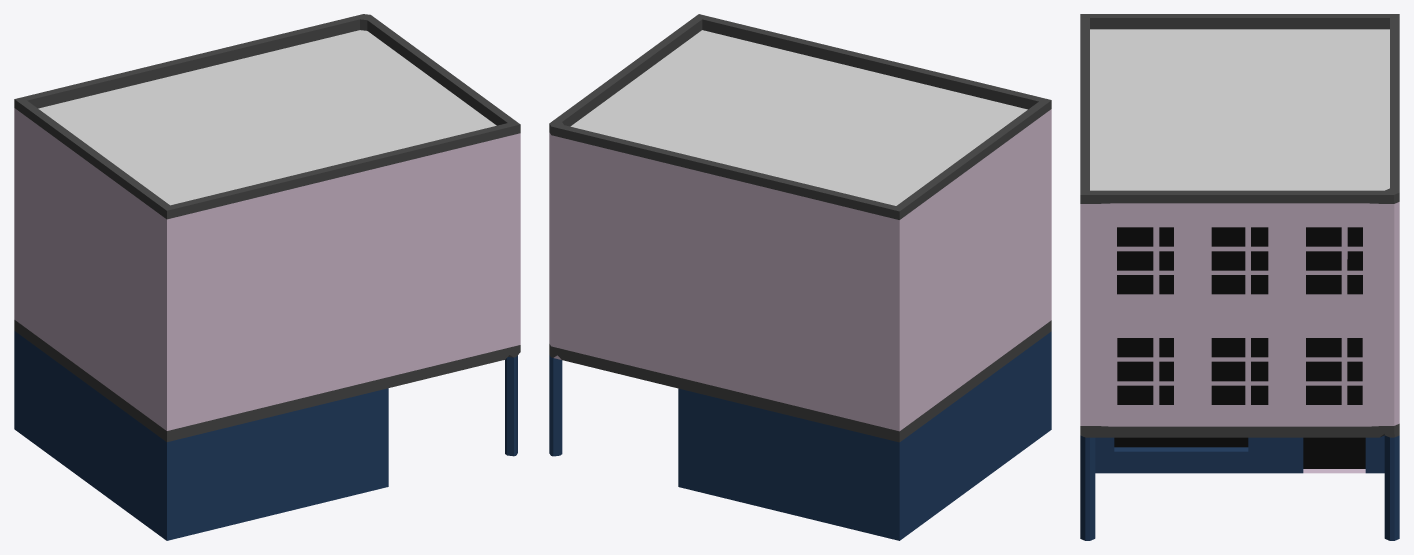
The model's file is house-5.glb.
3 views of the same model, side by side, from view 1: azimuth 30°, elevation 25°; view 2: azimuth 150°, elevation 25°; view 3: azimuth 270°, elevation 25° (orthographic). The views are drawn at different scales.
Bounding box in the file's own units: 1.95 × 1.74 × 1.46.
